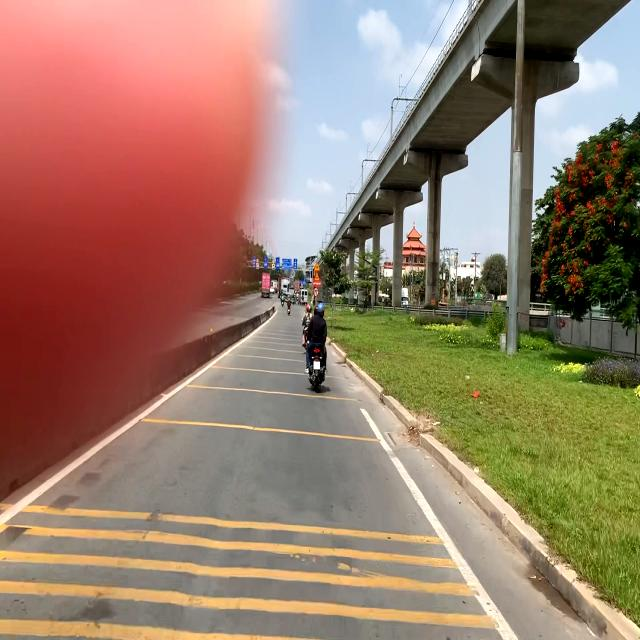P.123b: (313, 288, 319, 298)
W.207b: (314, 262, 320, 272)
W.245a: (314, 272, 320, 280)
